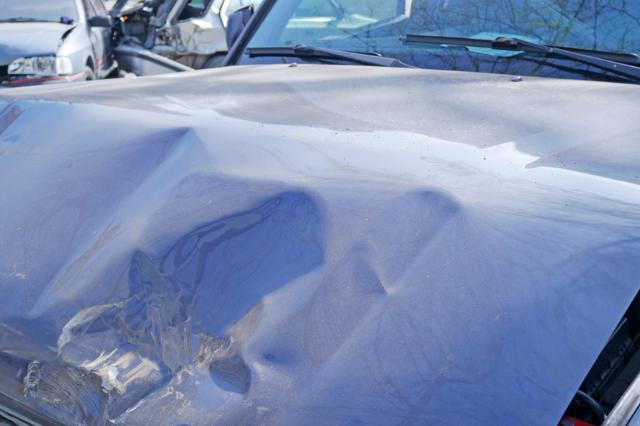Bonnet: (0, 58, 640, 426)
